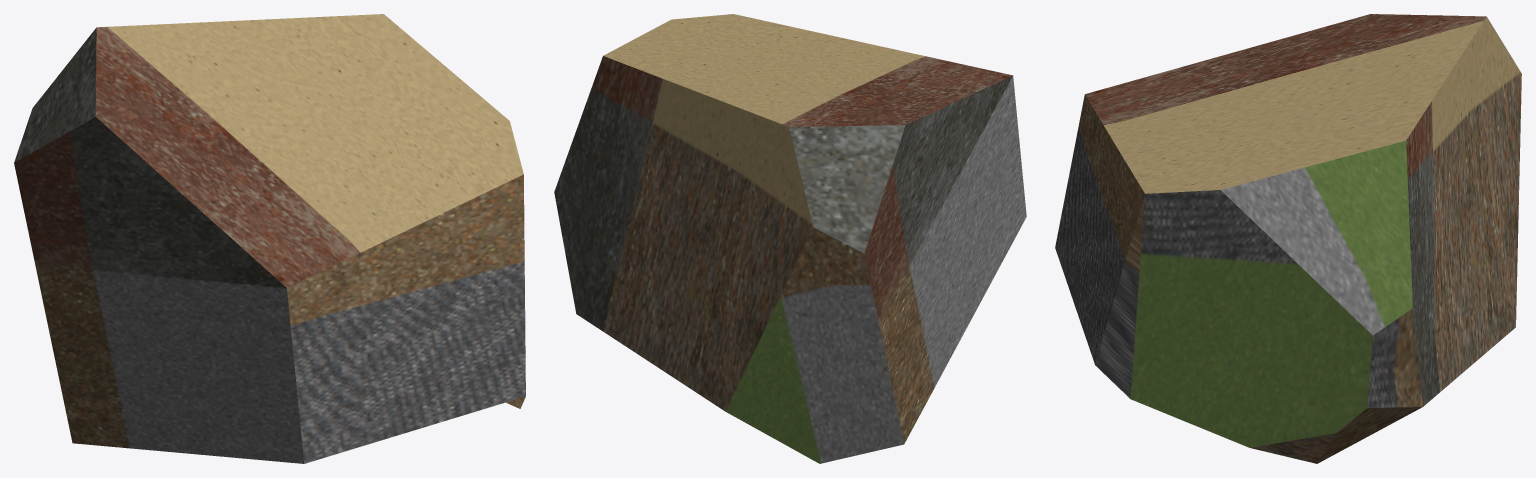
Rendered from OreDrop.fbx.
3 renders of one model, left to right at view 1: azimuth 30°, elevation 25°; view 2: azimuth 150°, elevation 25°; view 3: azimuth 270°, elevation 25°, orthographic. The views are drawn at different scales.
Parts seen in each view (by area): view 1: Cube.009; view 2: Cube.009; view 3: Cube.009.
Part boxes in pixels (x1=…): Cube.009: x1=14, y1=14, x2=525, y2=463; Cube.009: x1=554, y1=14, x2=1026, y2=463; Cube.009: x1=1055, y1=14, x2=1521, y2=463.
Bounding box in the file's own units: 50.28 × 47.66 × 57.01.
